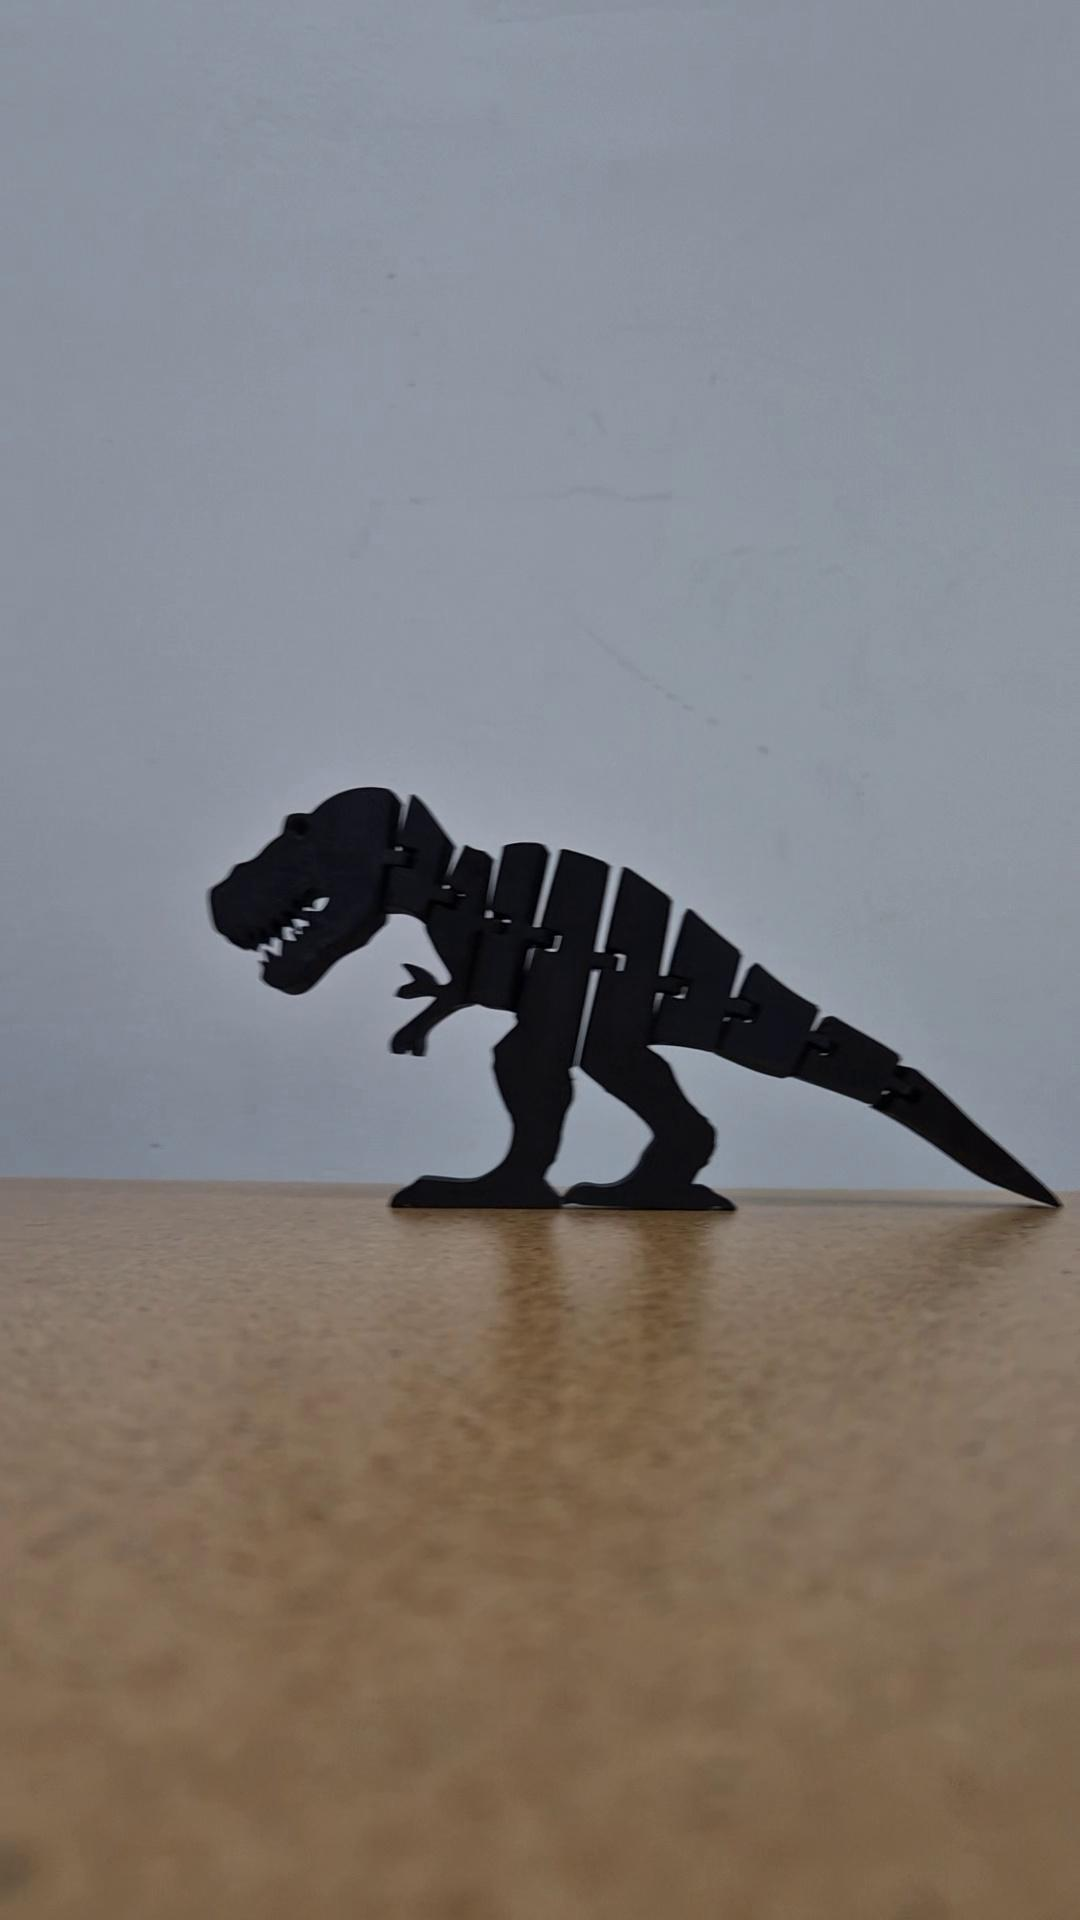dinosaur: (207, 785, 1064, 1212)
